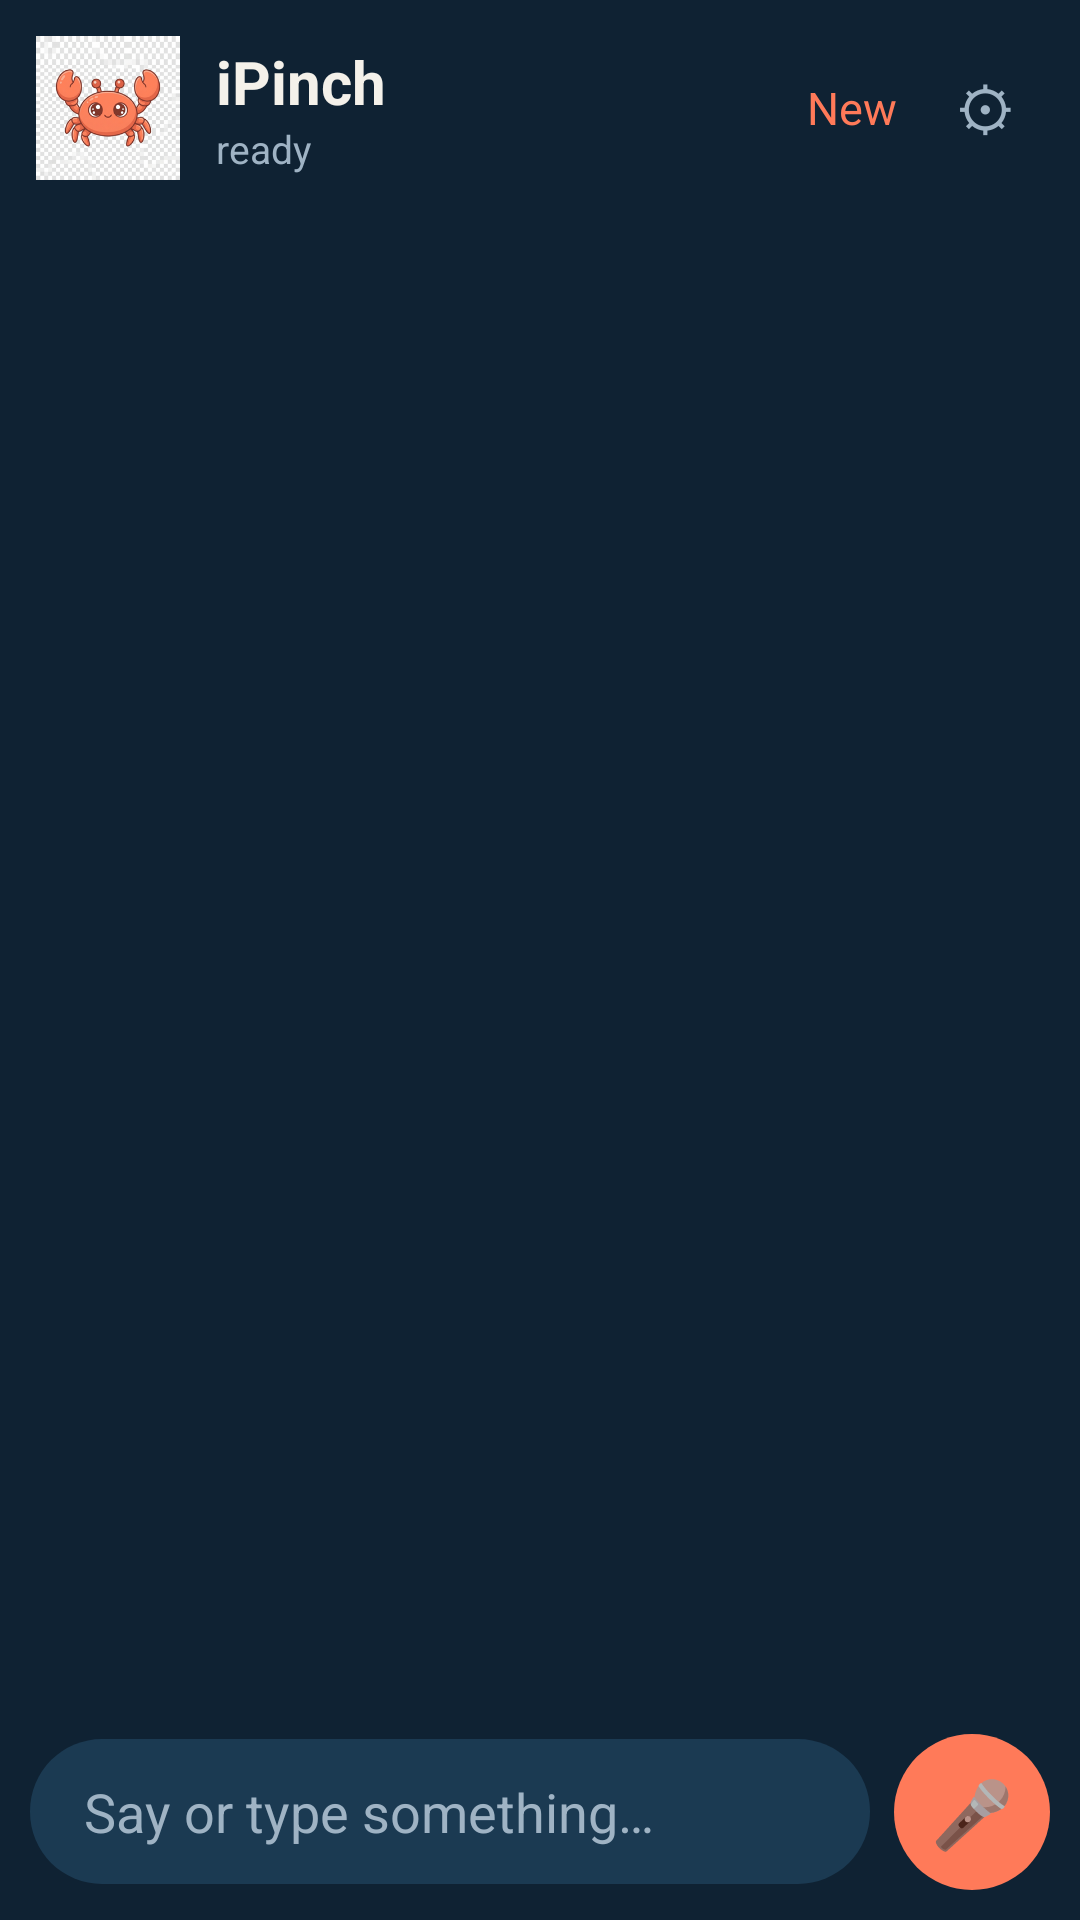

Icon click points for this 1080w x 1920h phone screenshot, format (x=x, y=y):
crab: (x=108, y=108)
